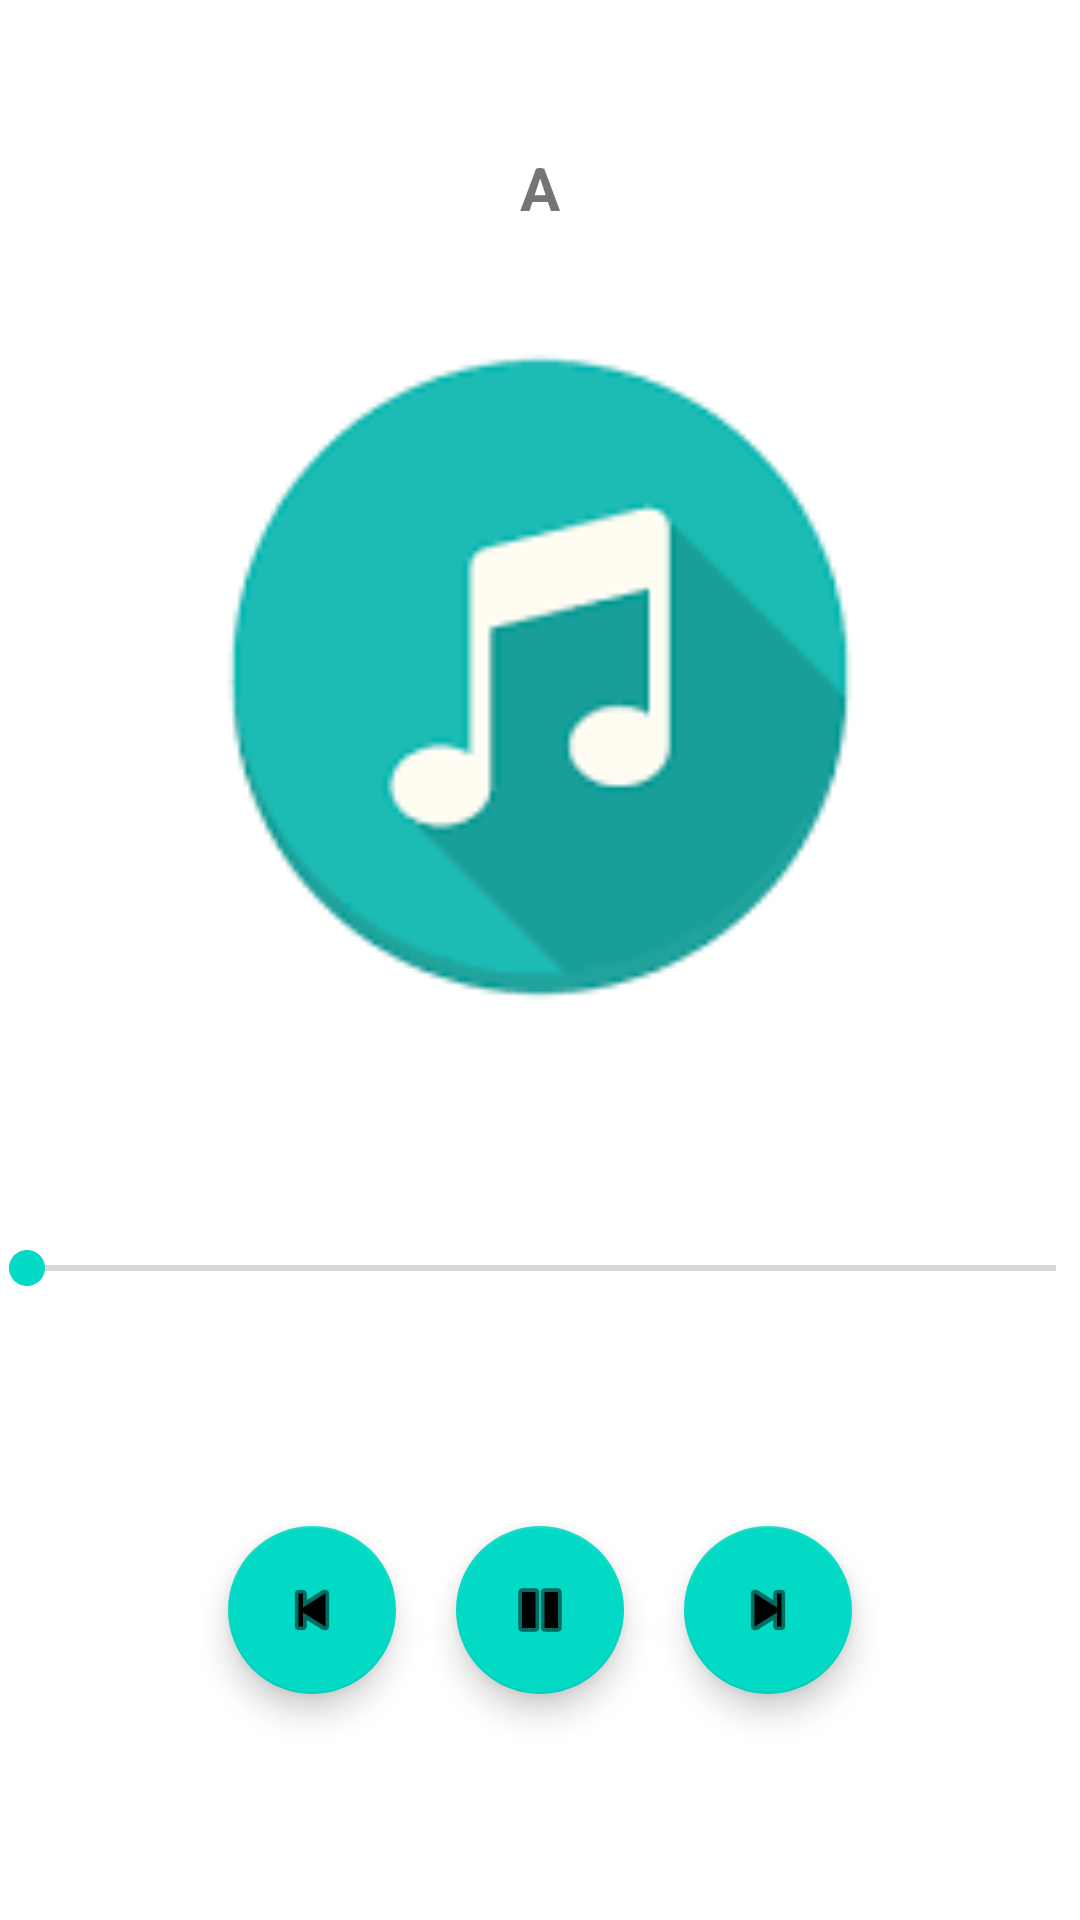

Named icons in this screenshot (1080px×1920px) and their bounding boxes, box=[x1, y1, x2, y2]:
next: box=[684, 1526, 852, 1694]
pause: box=[456, 1526, 624, 1694]
previous: box=[228, 1526, 396, 1694]
